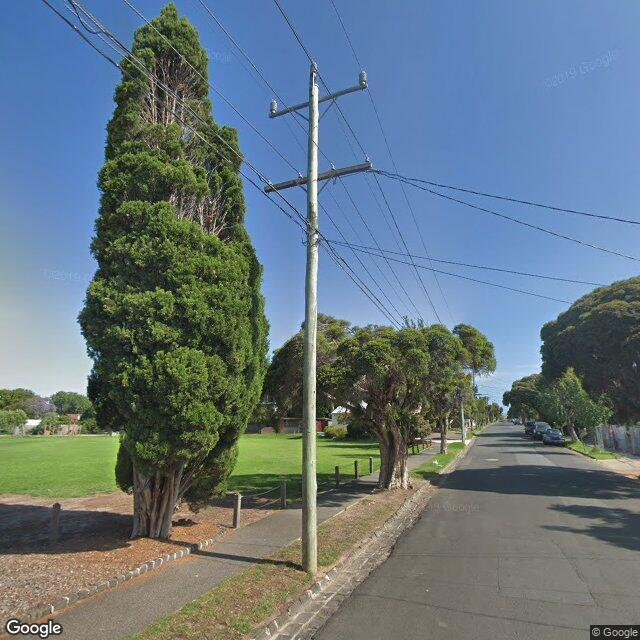HV-transmission: (269, 62, 368, 118)
crossarm: (263, 155, 374, 193), (270, 83, 368, 118)
timber-pole: (302, 84, 318, 574)
